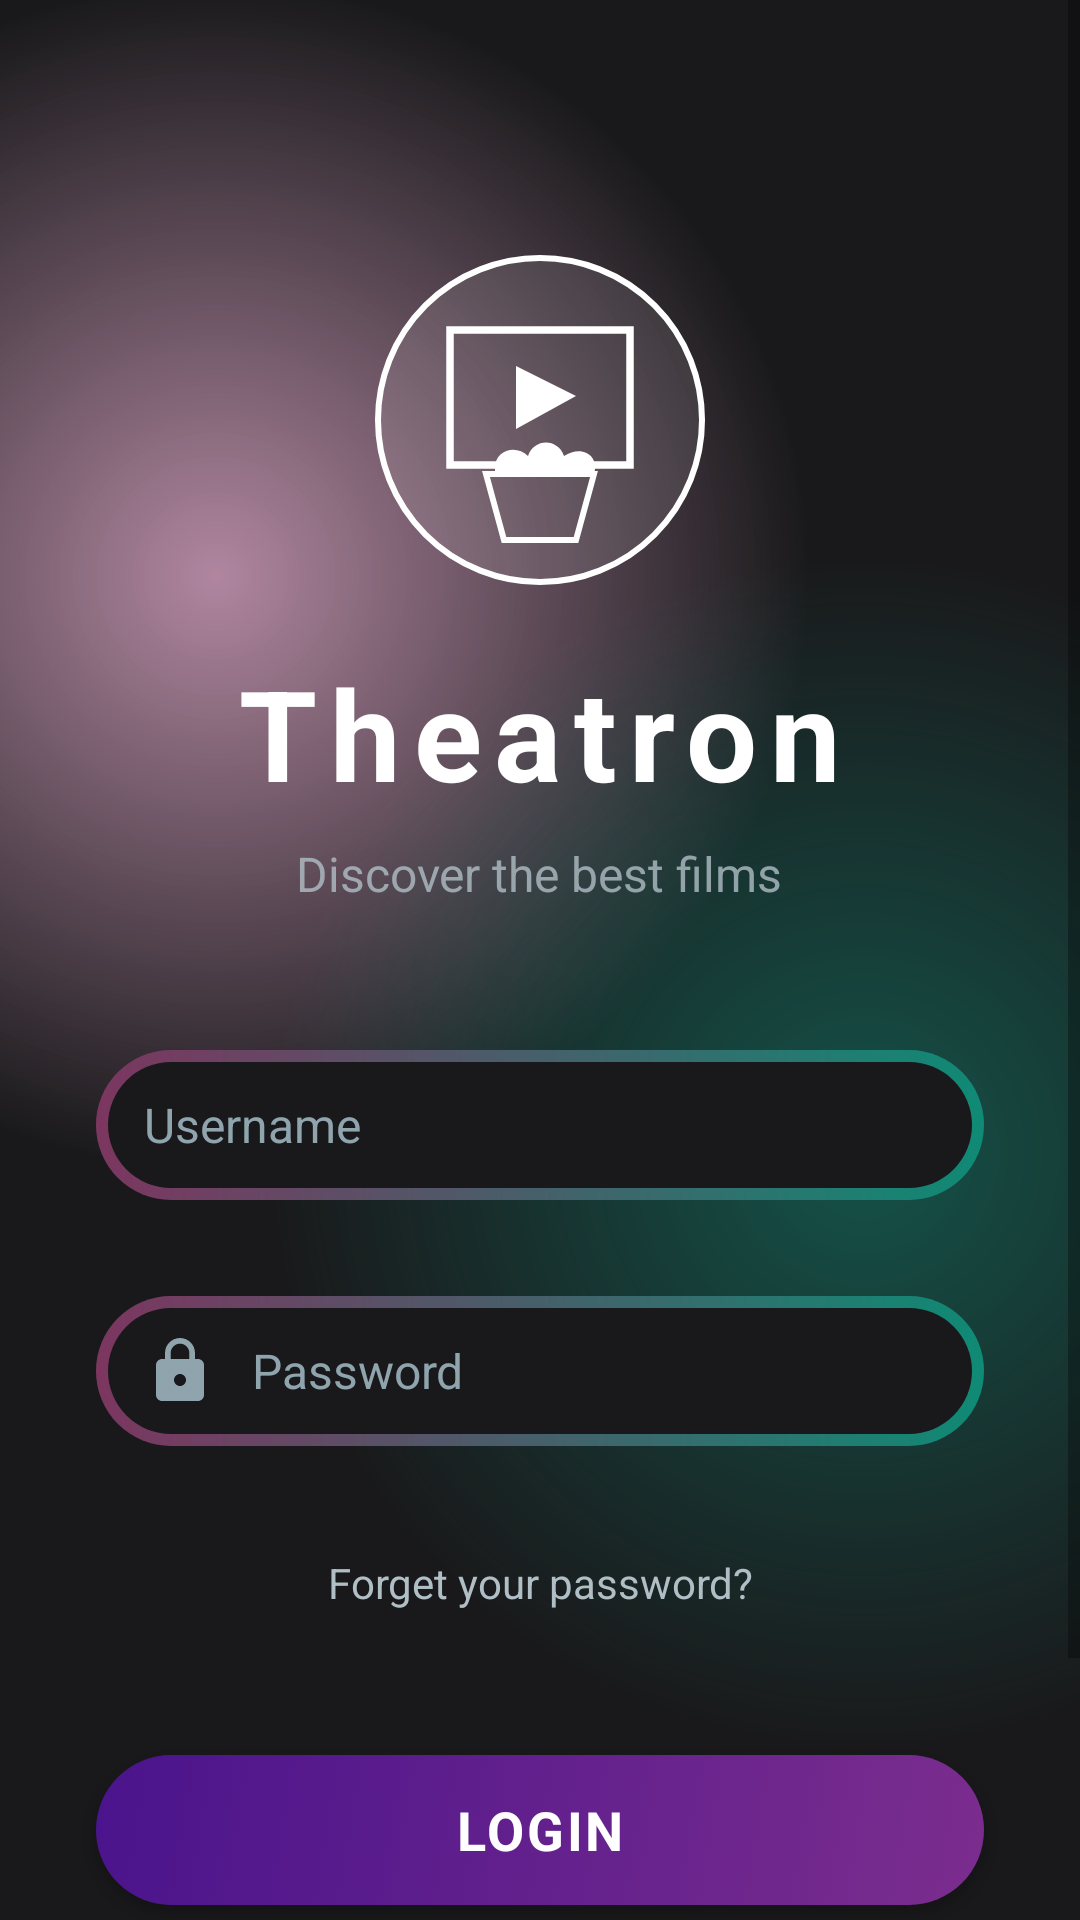

Named icons in this screenshot (1080*1920) and their centers, [x,y]:
Cinema Icon: [540,420]
